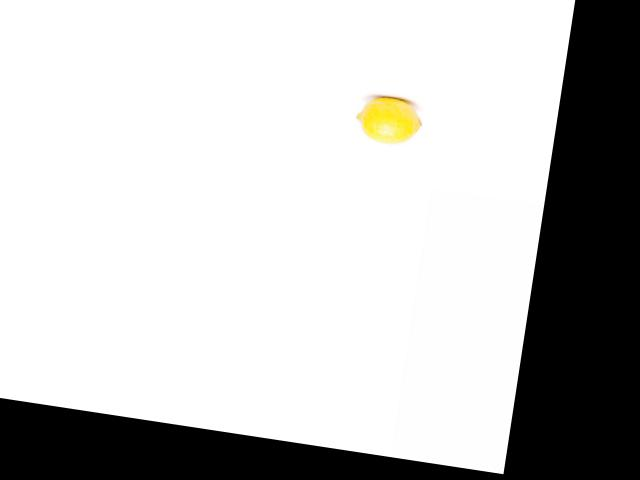lemon: (347, 85, 426, 150)
